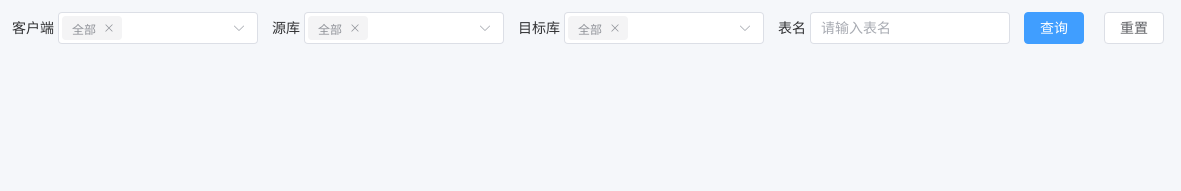
Test: OffsetQueryBar 客户端候选省略与悬浮完整内容（TOFF-REQ-041/047，R1 §4.5） › 空描述候选只显示 ID、停用仍带标记、空括号不回归
Click the element showing "全部" next to "客户端".
click(158, 28)  # box [58,12,258,44]
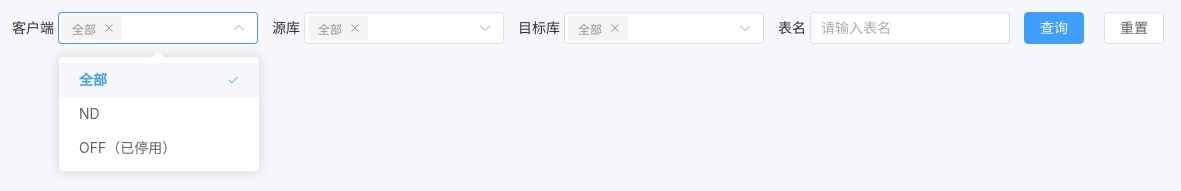
Check: the option "ND" is shown, box [79,105,100,122]
Check: the option "OFF（已停用）" is shown, box [79,139,176,156]
